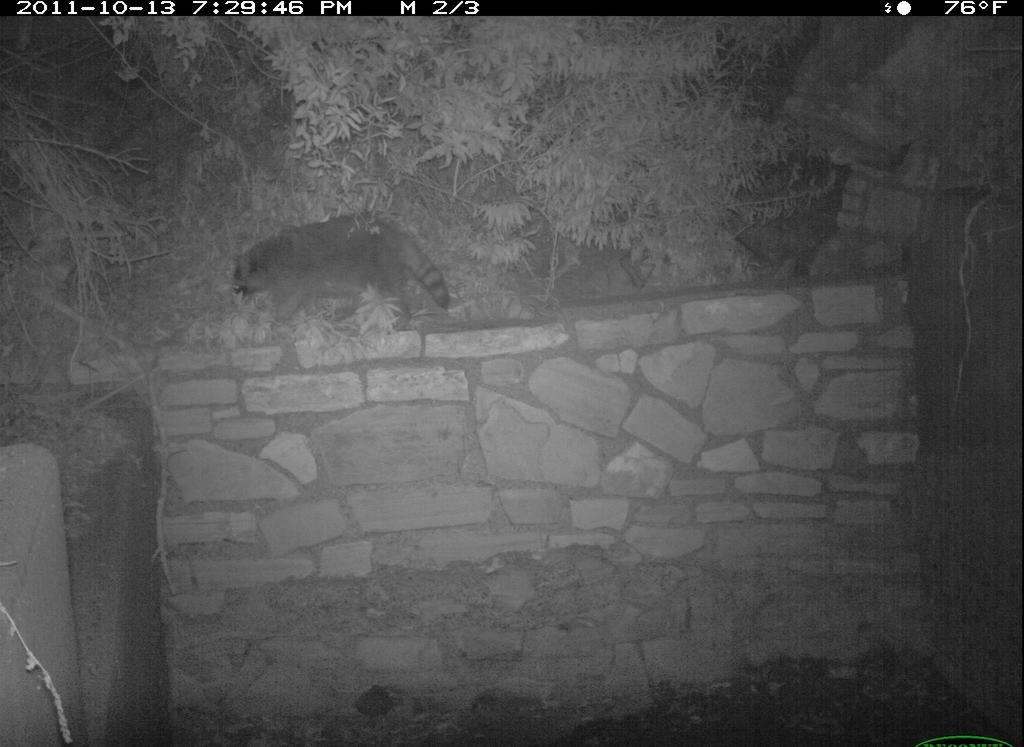raccoon: (218, 208, 456, 353)
